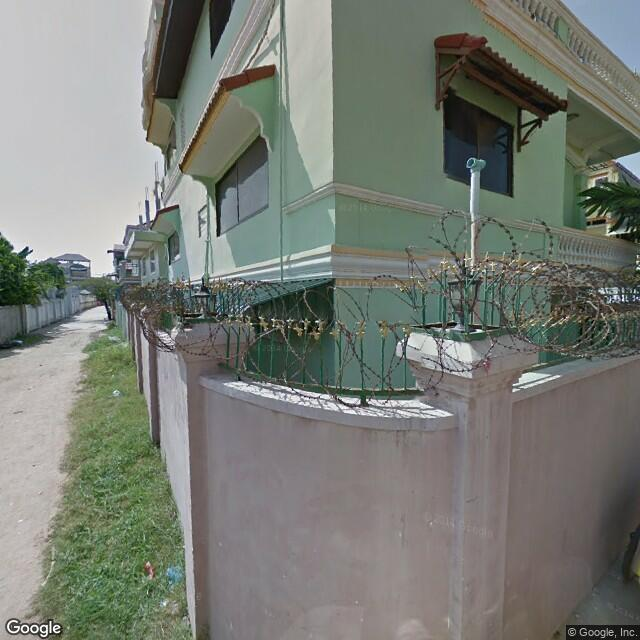litter: (165, 555, 184, 594), (104, 381, 136, 404), (135, 549, 158, 581)
